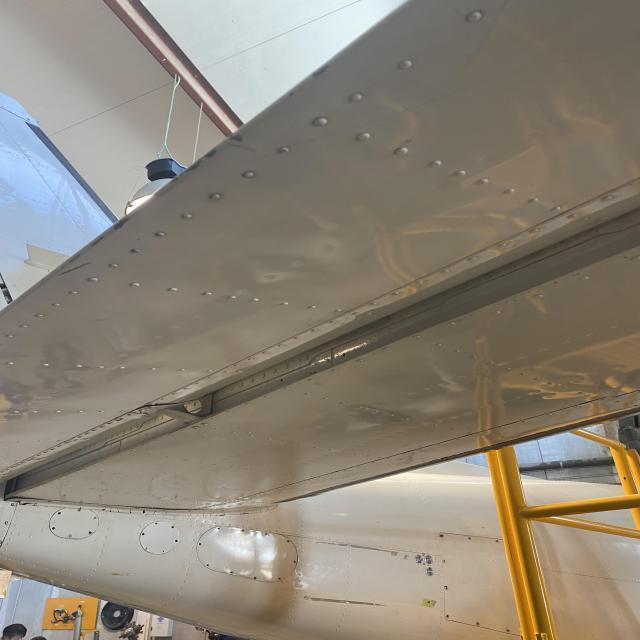Missing_Fastener: (51, 526, 56, 531), (228, 570, 234, 574), (204, 564, 210, 568), (88, 530, 92, 535), (286, 540, 292, 543), (58, 512, 62, 516), (140, 532, 144, 536), (174, 539, 178, 543), (277, 577, 282, 580), (172, 526, 176, 529), (218, 527, 220, 530)
